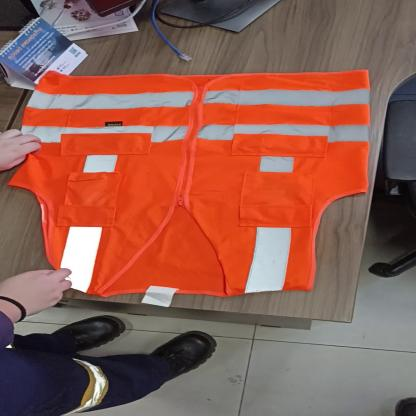colete: (14, 70, 376, 300)
